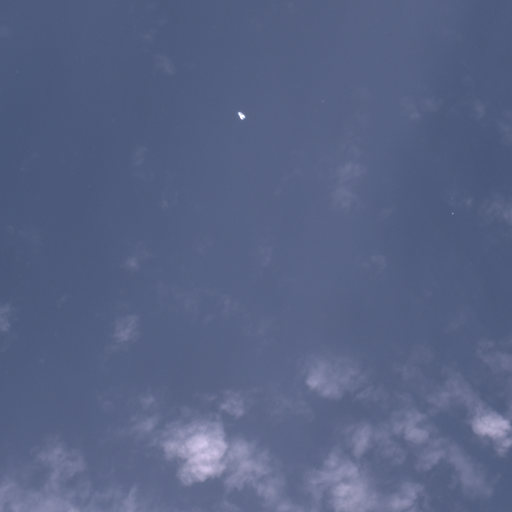Iceberg: (237, 111, 245, 119), (451, 212, 453, 214)
